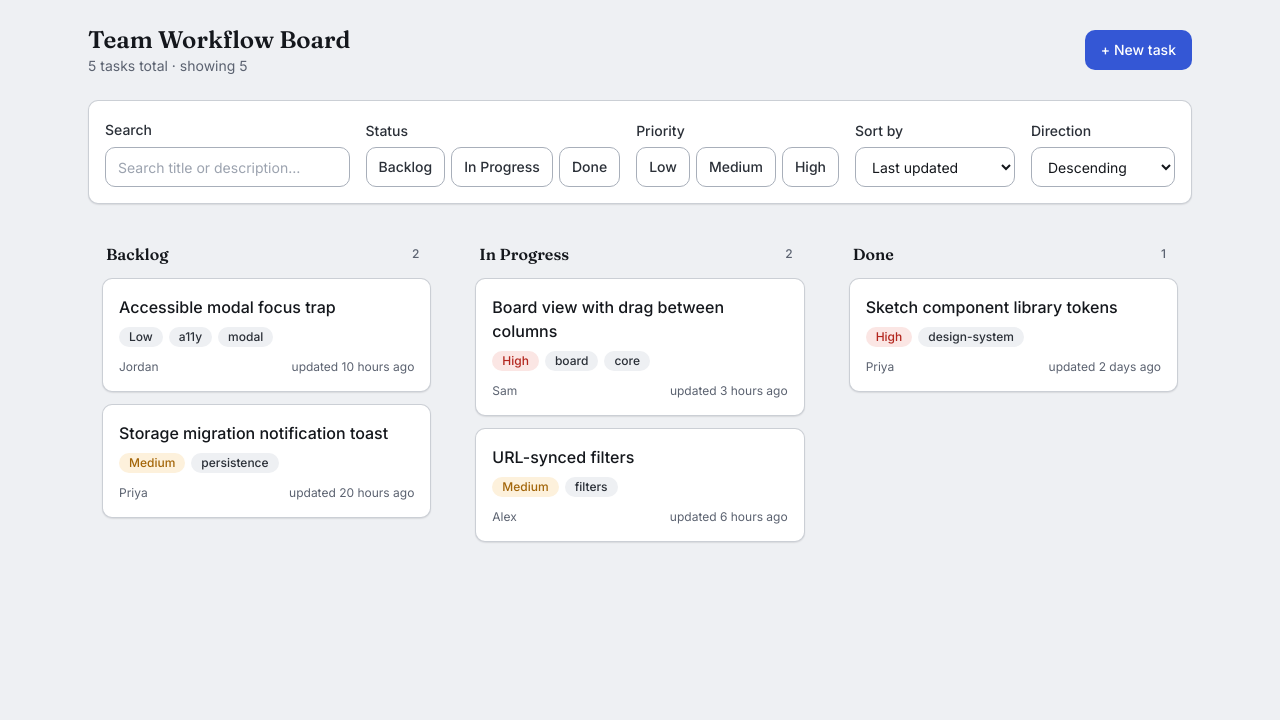
Test: creating a task › shows a validation error and does not create the task when title is empty
This screenshot has width=1280, height=720.
Click the button "+ New task". click: (1138, 50)
box: [1085,30,1192,70]
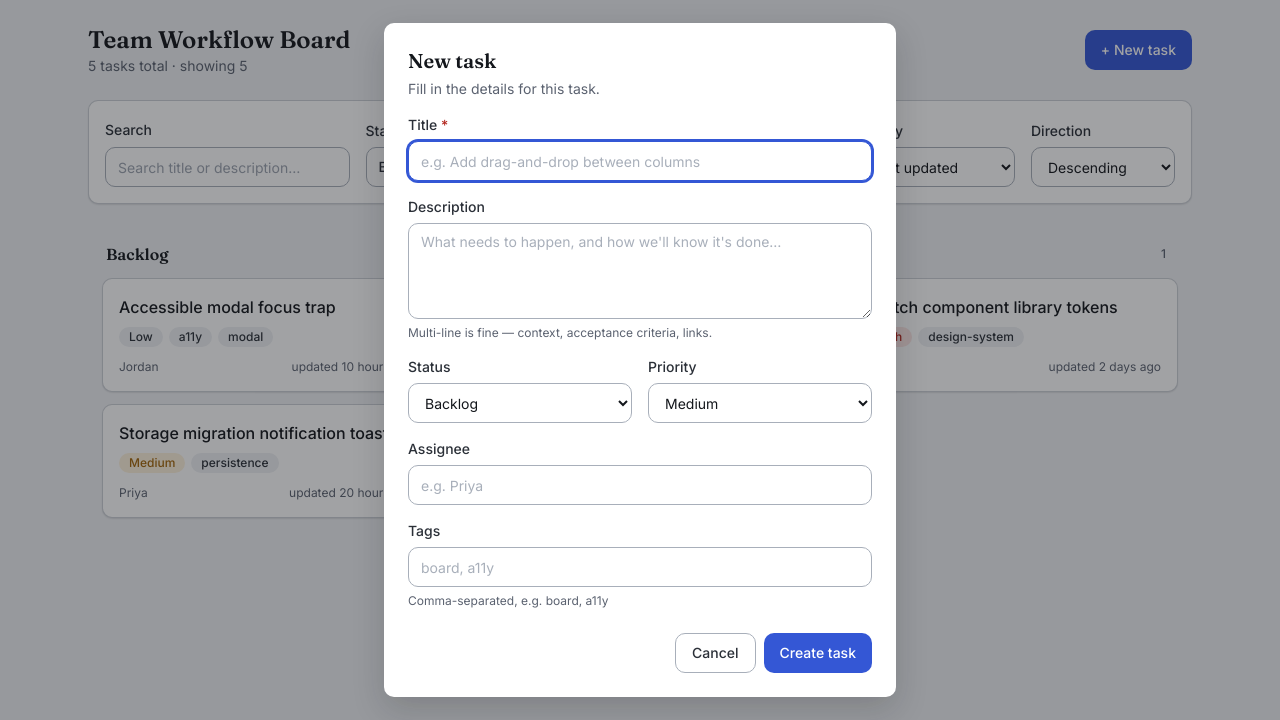
Click the button "Create task". click: (818, 653)
box: [764,633,872,673]
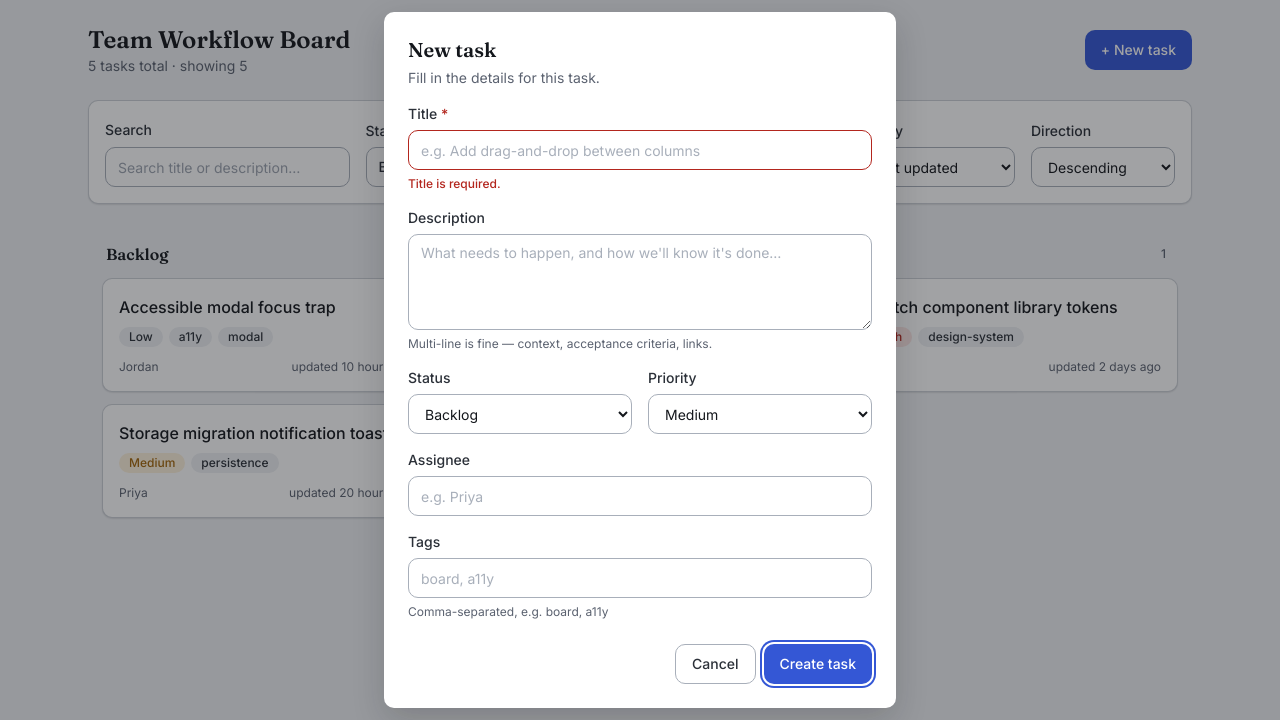
Check: the message shows "Title is required", box [408,176,500,191]
